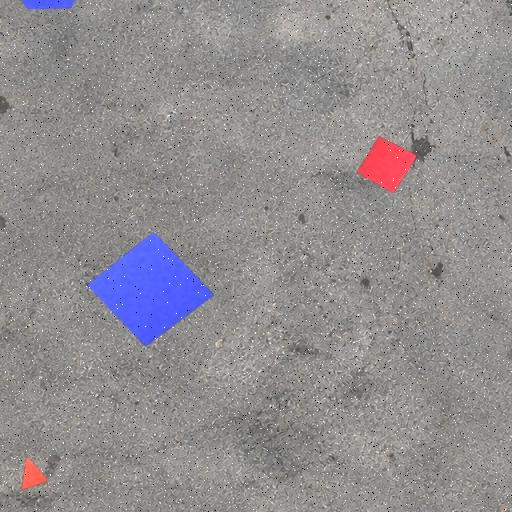BLUE_SQUARE: (87, 231, 215, 347)
RED_SQUARE: (356, 135, 418, 194)
